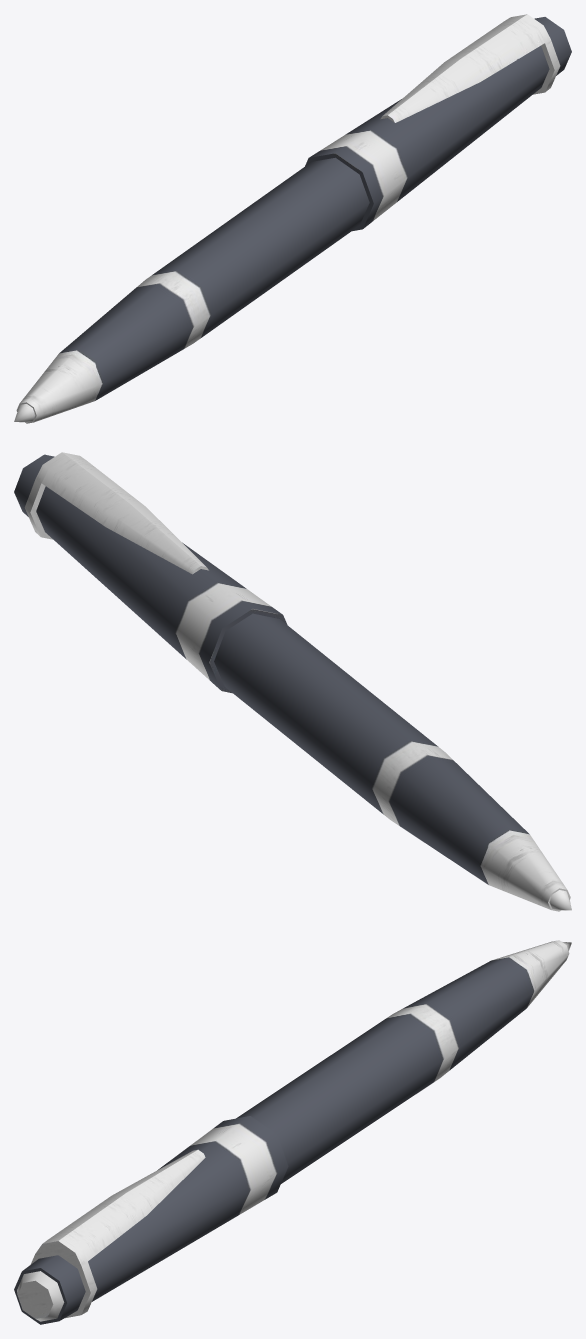
File: pen.glb
3 views of the same model, one above another, from view 1: azimuth 90°, elevation 25°; view 2: azimuth 150°, elevation 25°; view 3: azimuth 270°, elevation 25° (orthographic). The views are drawn at different scales.
Visible parts, largest first — view 1: pen_geo; view 2: pen_geo; view 3: pen_geo.
Boxes of the visible parts, x1=… form: pen_geo: x1=14, y1=14, x2=571, y2=423; pen_geo: x1=14, y1=452, x2=571, y2=911; pen_geo: x1=14, y1=940, x2=571, y2=1324.
Bounding box in the file's own units: 0.1374 × 0.0154 × 0.0867.
1 material, 1 textured.
